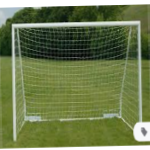goals: (10, 20, 144, 142)
